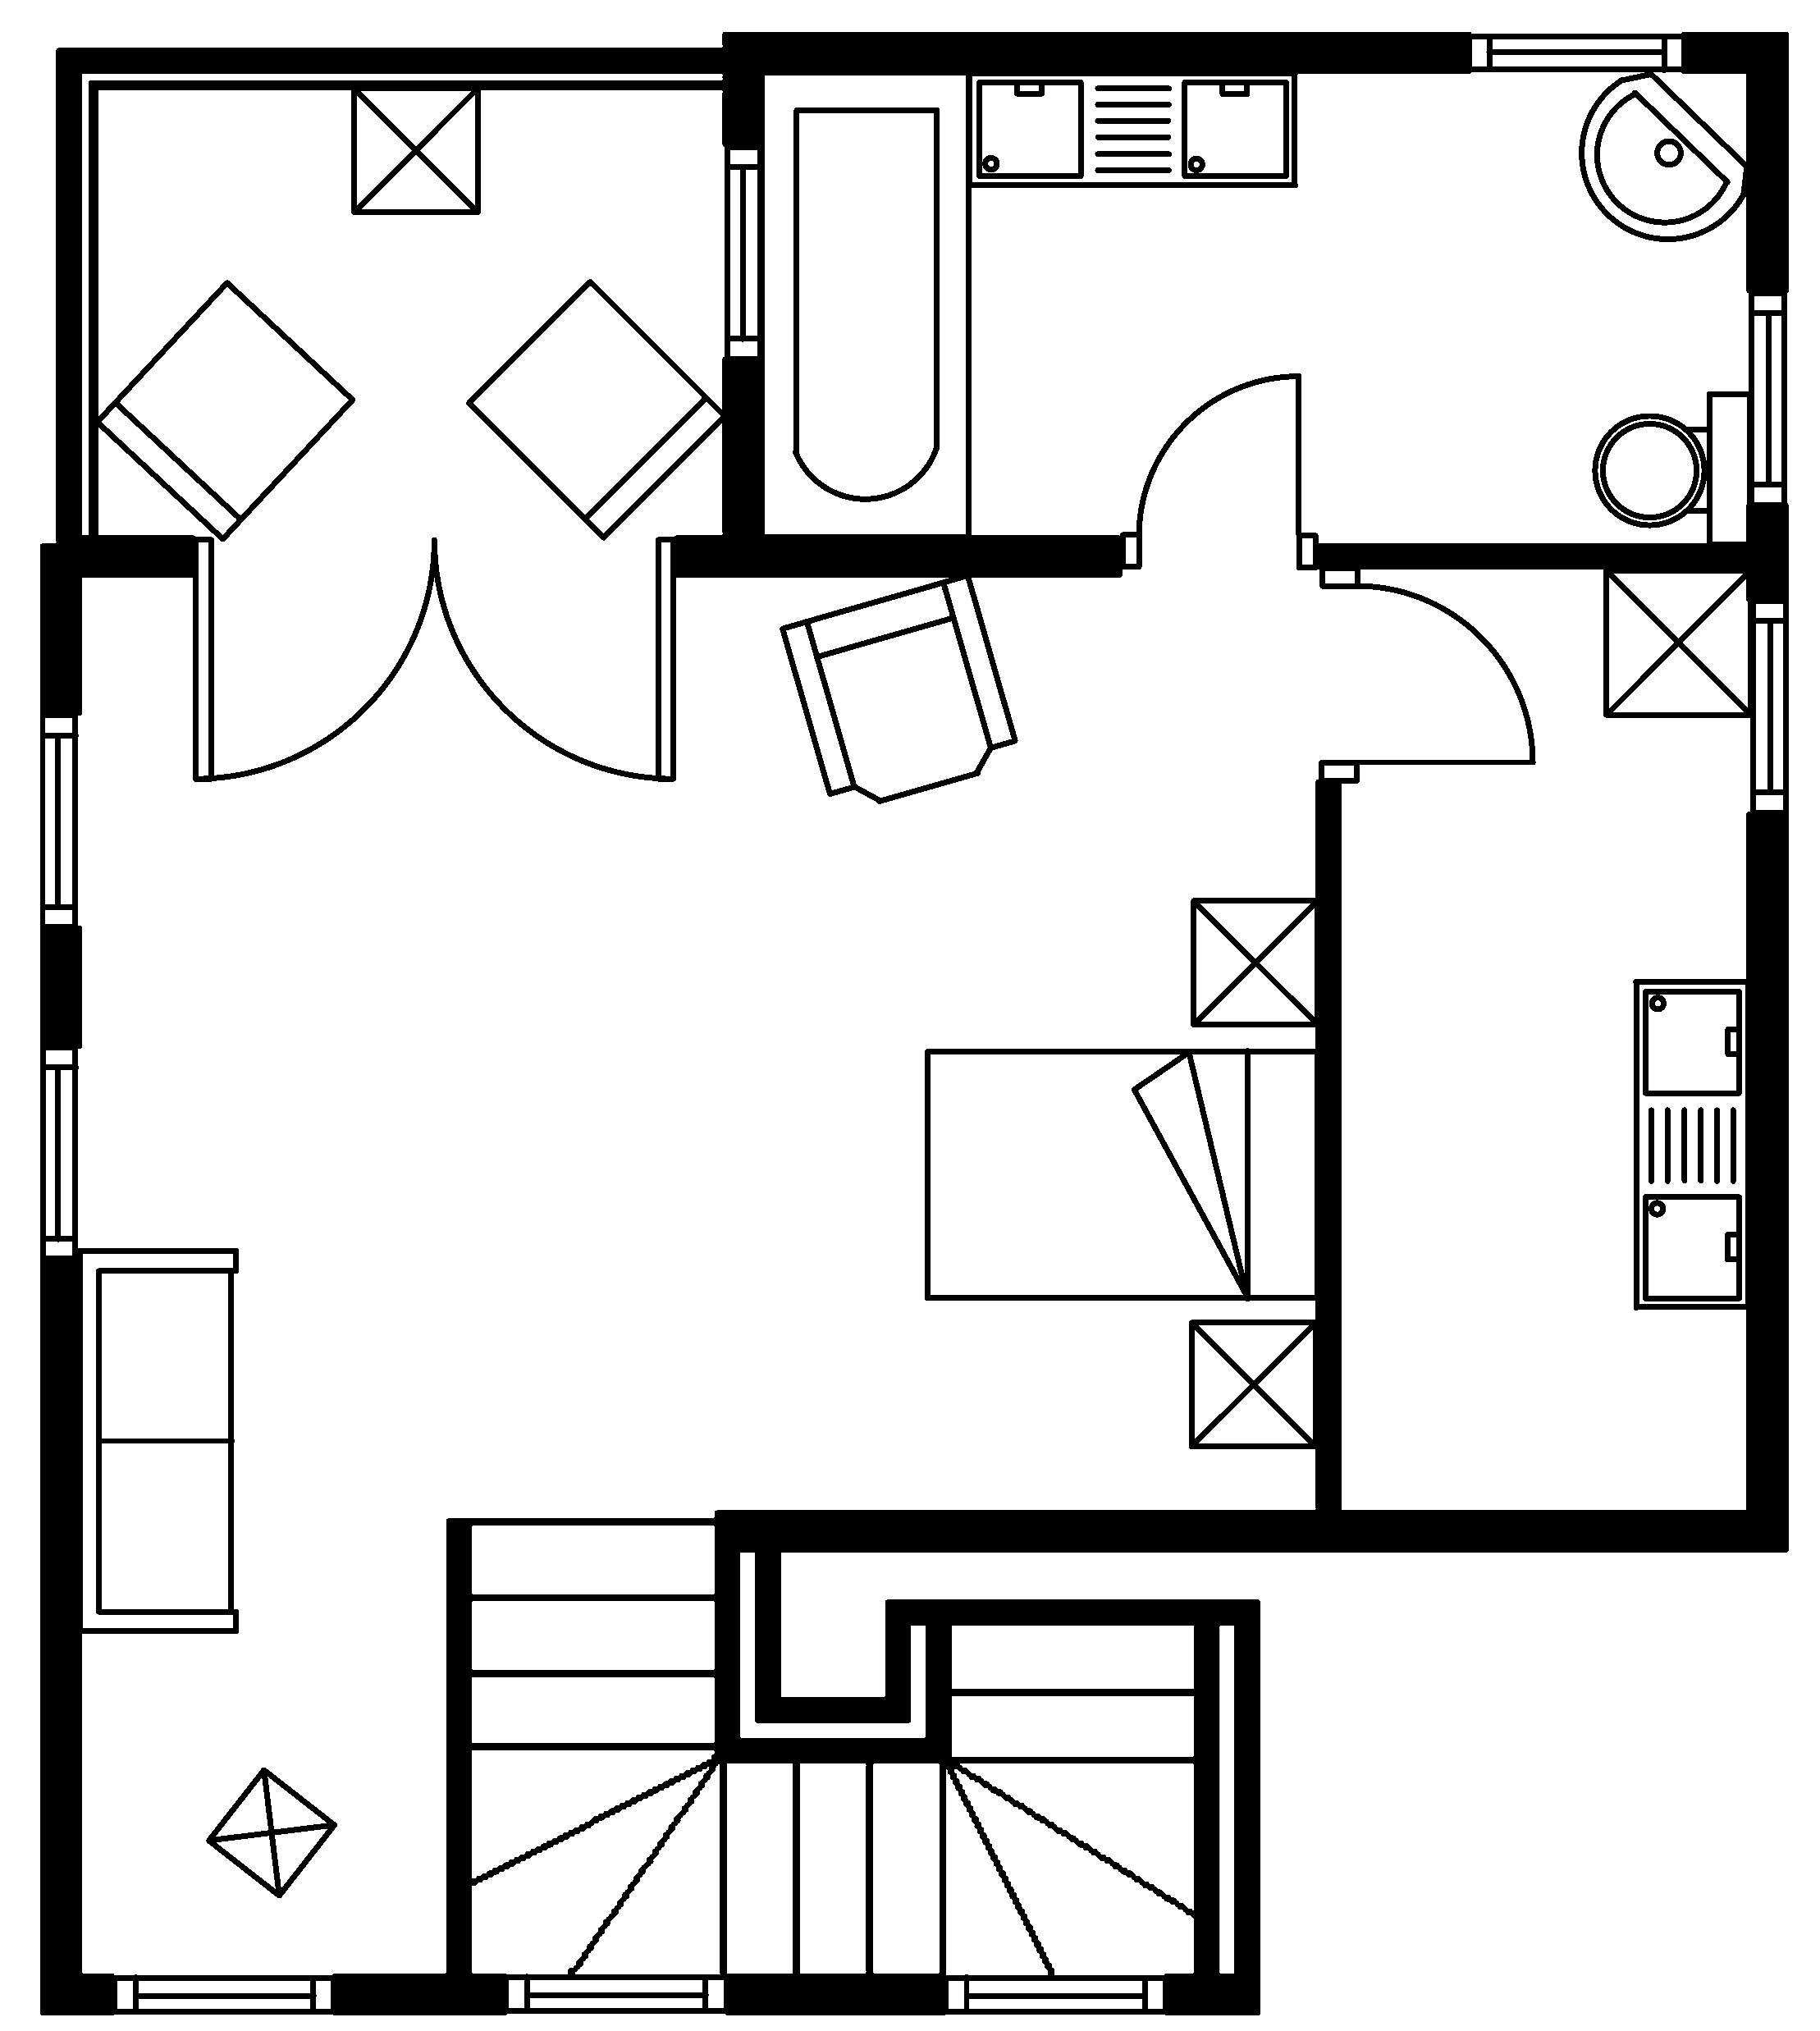armchair: (778, 571, 1019, 805)
bed: (922, 1047, 1321, 1302)
coffee_table: (1602, 566, 1753, 719), (204, 1766, 337, 1899), (1186, 1318, 1319, 1449), (1189, 896, 1321, 1028), (350, 84, 481, 214)
large_sink: (1592, 388, 1753, 548)
large_sofa: (76, 1246, 239, 1634)
small_sink: (1578, 70, 1750, 241)
small_sofa: (464, 278, 727, 541), (93, 278, 355, 543)
tub: (757, 69, 971, 539)
twin_sink: (1630, 977, 1751, 1311), (964, 69, 1298, 188)
